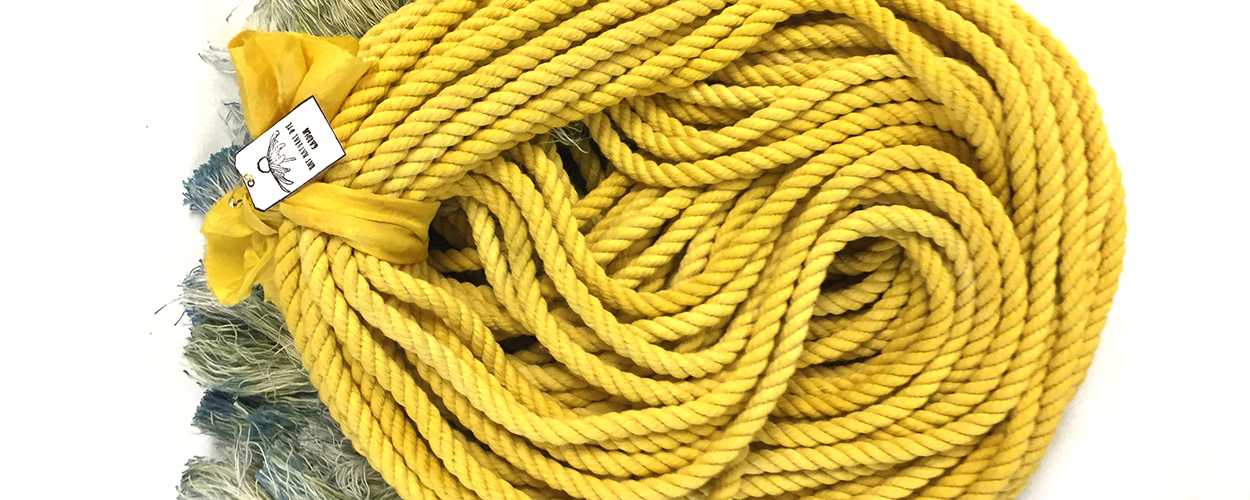Nonrec_Tangler: (185, 1, 1153, 491)
